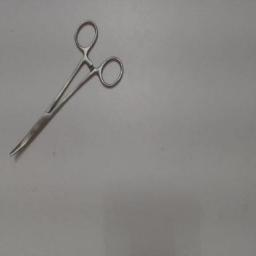Crile Artery Forceps: (6, 16, 126, 164)
